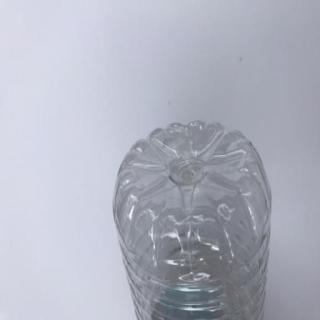Plastic-bottle: (112, 119, 275, 320)
